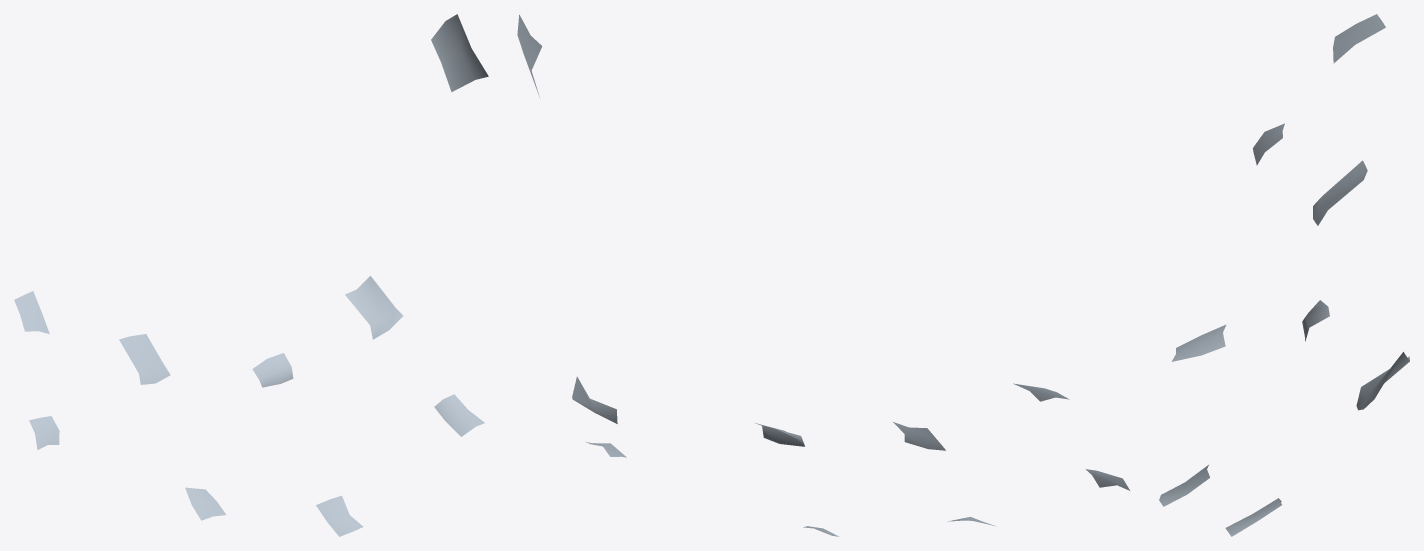
The model's file is palmar-interphalangeal-ligaments-l.glb.
3 views of the same model, side by side, from view 1: azimuth 30°, elevation 25°; view 2: azimuth 150°, elevation 25°; view 3: azimuth 270°, elevation 25° (orthographic). The views are drawn at different scales.
Visible parts, largest first — view 1: Palmar interphalangeal ligaments.l; view 2: Palmar interphalangeal ligaments.l; view 3: Palmar interphalangeal ligaments.l.
Boxes of the visible parts, x1,y1,x2,y2 form: Palmar interphalangeal ligaments.l: (14, 14, 488, 536); Palmar interphalangeal ligaments.l: (517, 14, 1129, 536); Palmar interphalangeal ligaments.l: (1159, 14, 1409, 536).
Bounding box in the file's own units: 0.0964 × 0.0849 × 0.0337.
